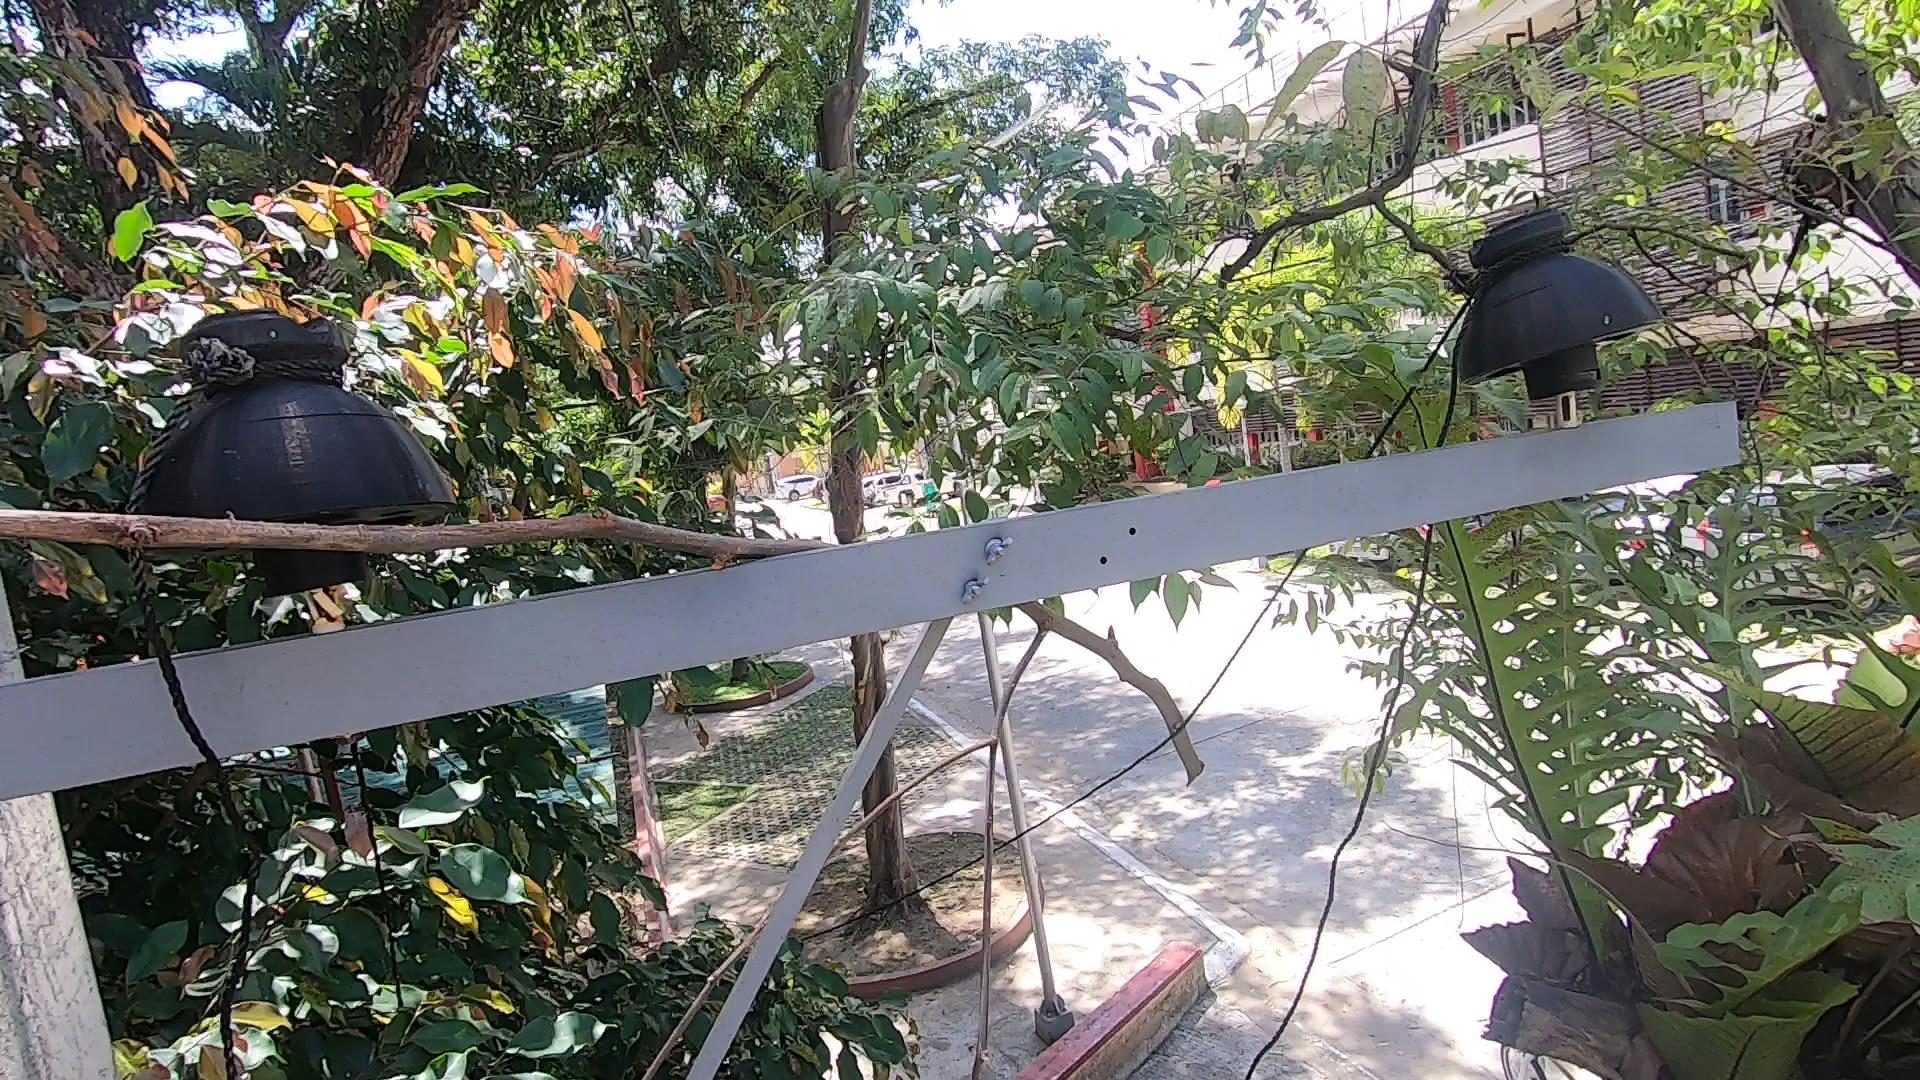tree branch: (827, 605, 1215, 1065), (1, 489, 814, 607), (624, 909, 766, 1080)
